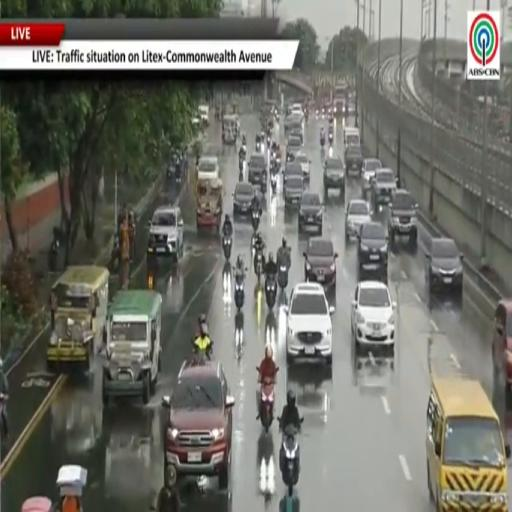car: (162, 361, 235, 489), (285, 283, 334, 364), (351, 281, 395, 354), (425, 237, 463, 295), (147, 206, 183, 261), (492, 298, 511, 399), (357, 222, 388, 282), (303, 237, 338, 290), (388, 189, 418, 246), (354, 354, 394, 392), (298, 191, 323, 235), (371, 169, 396, 212), (345, 200, 371, 241), (361, 158, 382, 197), (324, 157, 344, 197), (233, 182, 254, 217), (248, 153, 266, 187), (283, 176, 303, 206), (345, 144, 363, 174), (198, 156, 219, 180), (294, 152, 311, 181), (283, 163, 303, 184), (286, 136, 302, 162), (285, 117, 303, 137), (343, 126, 360, 147), (289, 122, 303, 146), (198, 105, 209, 125), (291, 103, 303, 119)
jeepney: (102, 291, 161, 405), (47, 266, 109, 372), (104, 408, 161, 499), (196, 180, 223, 230), (222, 116, 238, 145)
motorcycle: (259, 378, 275, 433), (265, 276, 278, 310), (192, 340, 213, 361), (234, 270, 244, 311), (48, 239, 60, 272), (0, 394, 8, 441), (110, 234, 119, 270), (254, 250, 263, 281), (277, 265, 288, 290), (222, 236, 232, 260), (252, 210, 260, 232), (271, 174, 276, 195), (275, 155, 281, 171), (320, 136, 325, 149), (328, 133, 333, 145), (242, 144, 246, 155), (322, 108, 326, 119), (256, 142, 260, 152), (305, 110, 308, 123), (267, 136, 270, 148), (316, 109, 319, 119), (301, 418, 303, 423)
